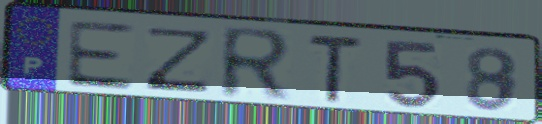5: (381, 38, 445, 110)
8: (462, 45, 520, 114)
E: (63, 18, 137, 92)
R: (217, 24, 297, 104)
T: (305, 32, 366, 105)
Z: (140, 25, 217, 95)
